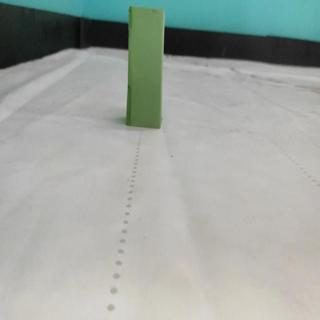greenbox: (127, 5, 164, 128)
